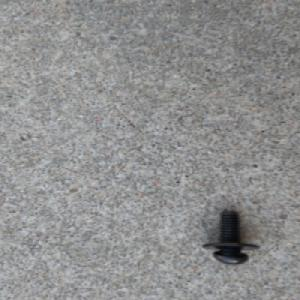BoltWasher: (200, 208, 261, 265)
